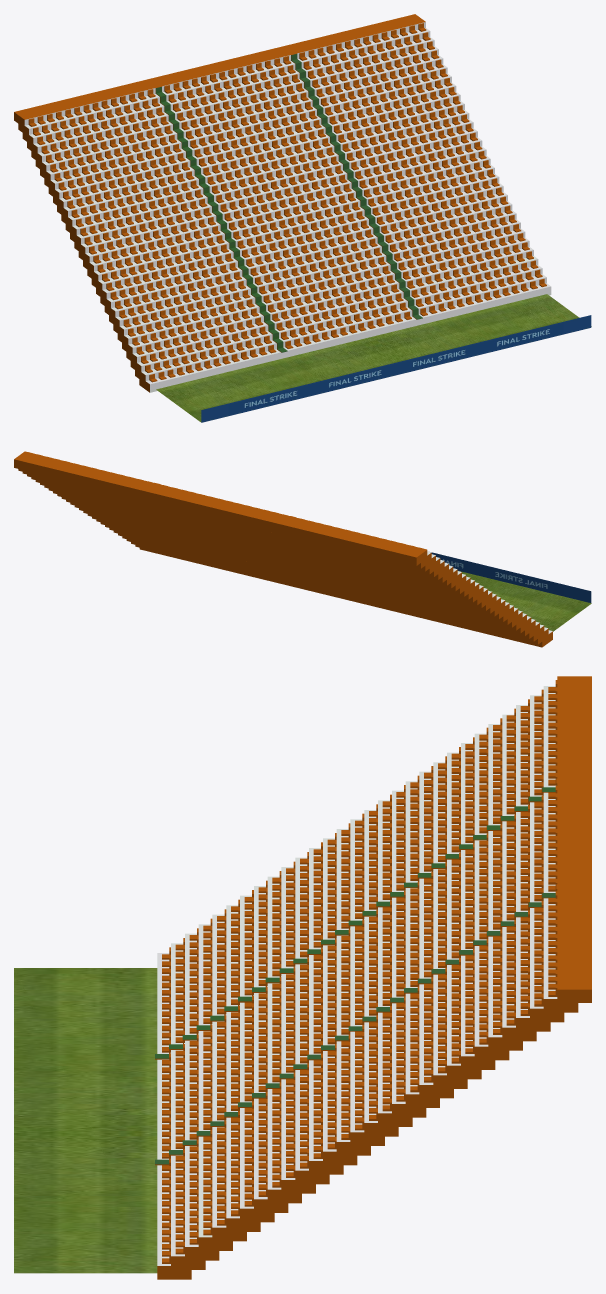
The model's file is stadium-part.glb.
The picture shows the model from 3 angles, top to bottom: view 1: azimuth 30°, elevation 25°; view 2: azimuth 150°, elevation 25°; view 3: azimuth 270°, elevation 25°; orthographic projection. The views are drawn at different scales.
Parts seen in each view (by area): view 1: stadium; view 2: stadium; view 3: stadium.
Boxes of the visible parts, left/top/right/bottom form: stadium: left=14, top=14, right=591, bottom=422; stadium: left=14, top=451, right=591, bottom=647; stadium: left=14, top=676, right=591, bottom=1279.
Size of the model in its own units: 33.34 by 14.4 by 26.01.
Materials: 1 (1 with a texture image).
